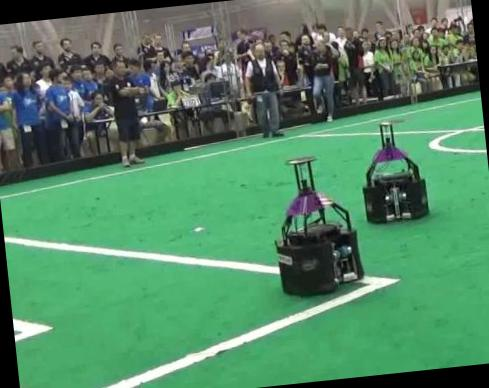person: (109, 61, 144, 166), (244, 43, 282, 137), (312, 42, 332, 119)
robot: (275, 157, 361, 295), (362, 122, 427, 222)
